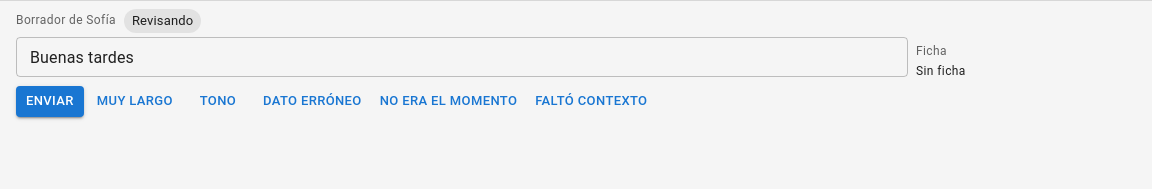
it: SofiaDraftPanel › muestra el motivo cuando el envío falla
Expected: the text box showing "Buenas tardes" is shown, [30, 46, 894, 68]
Click the button "Enviar". click: click(50, 101)
box: [16, 86, 84, 117]
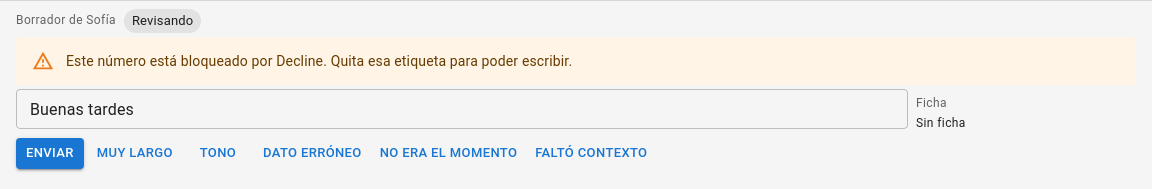
Result: the text "Este número está bloqueado por Decline. Quita esa etiqueta para poder escribir." is shown at [66, 53, 572, 69]
